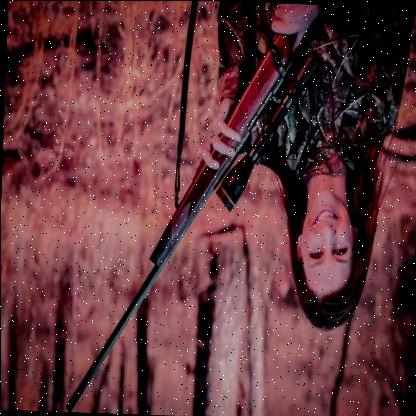rifle: (57, 9, 313, 416)
